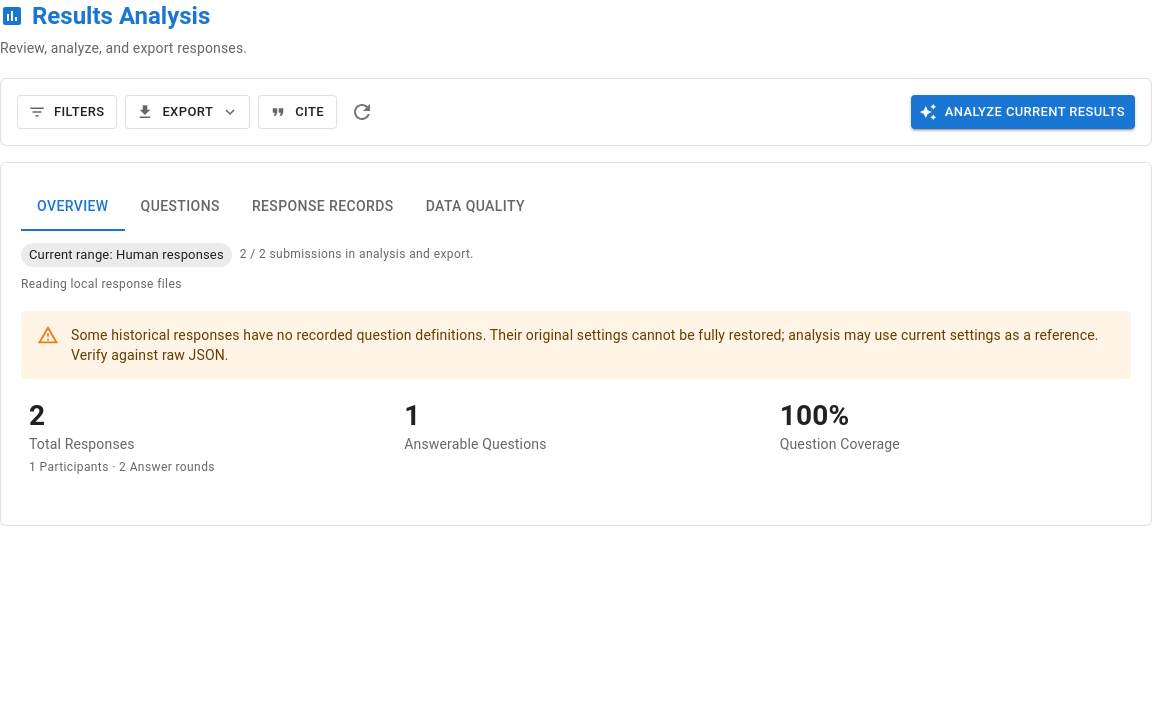
Test: filter preference does not save the survey and submission details are available
Expected: the text "2 / 2 submissions in analysis and export." is shown, 240,245 -> 474,265
Click the button "Filters" at [67, 112], box 17,95 -> 117,129
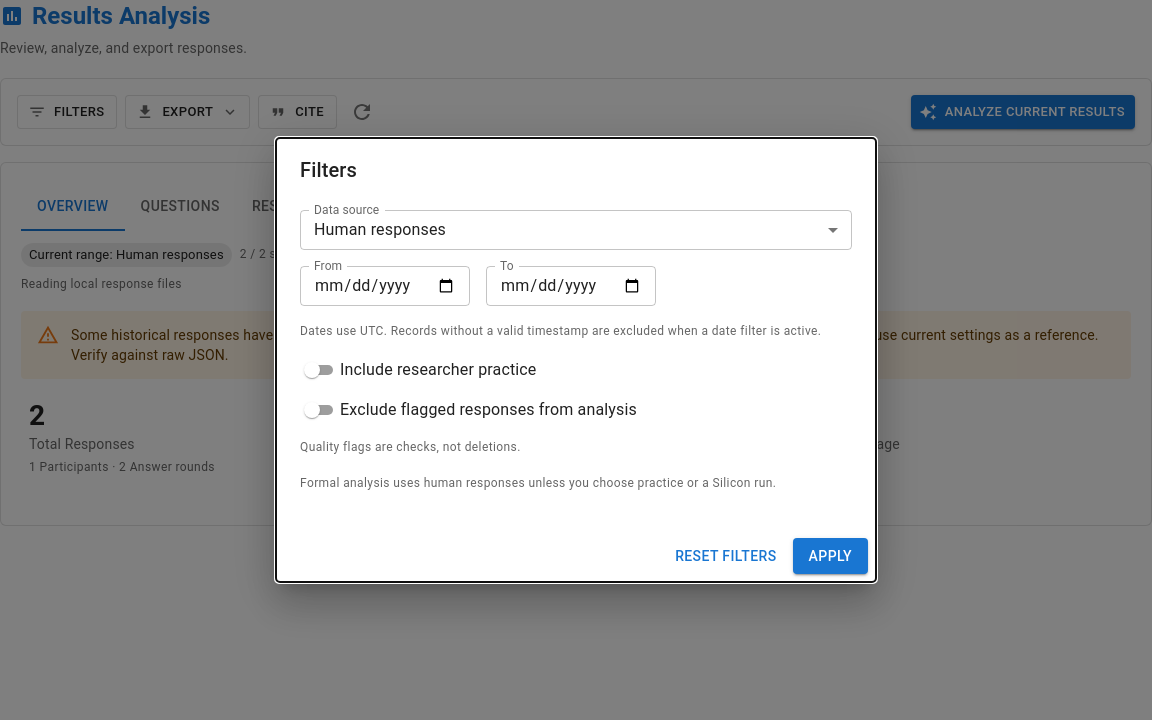
Click the switch labelled "Include researcher practice" at [420, 369], box 304,360 -> 536,379
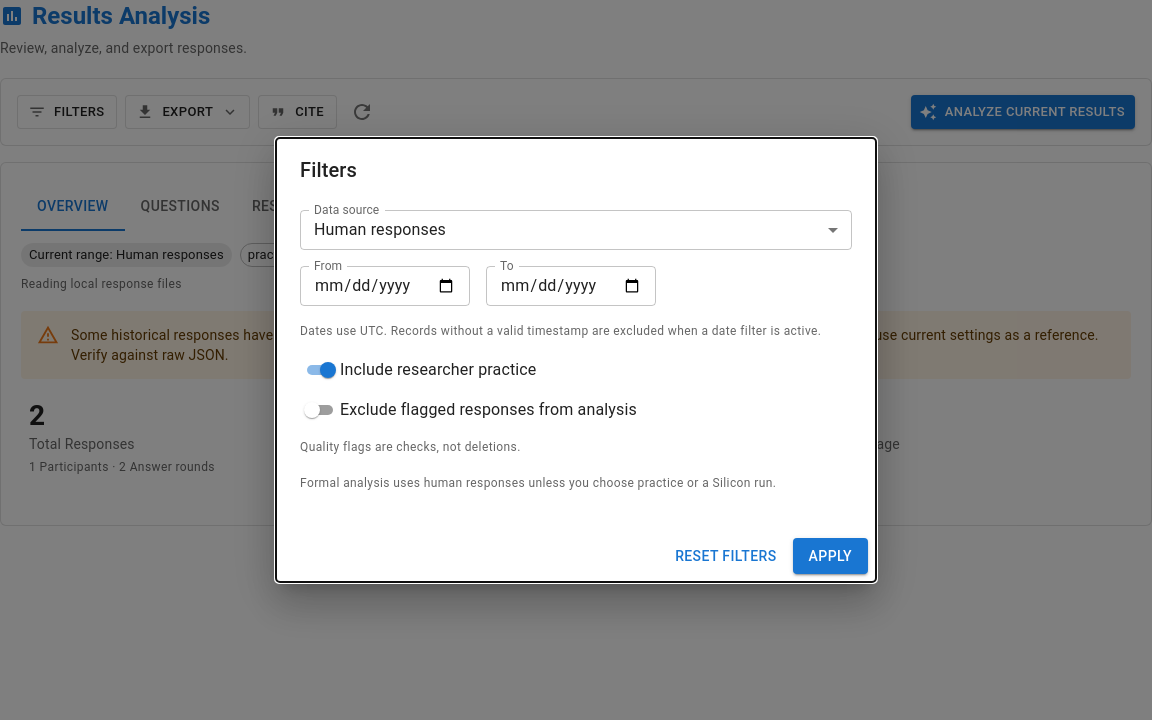
Click the button "Apply" at [830, 556], box 793,538 -> 868,574
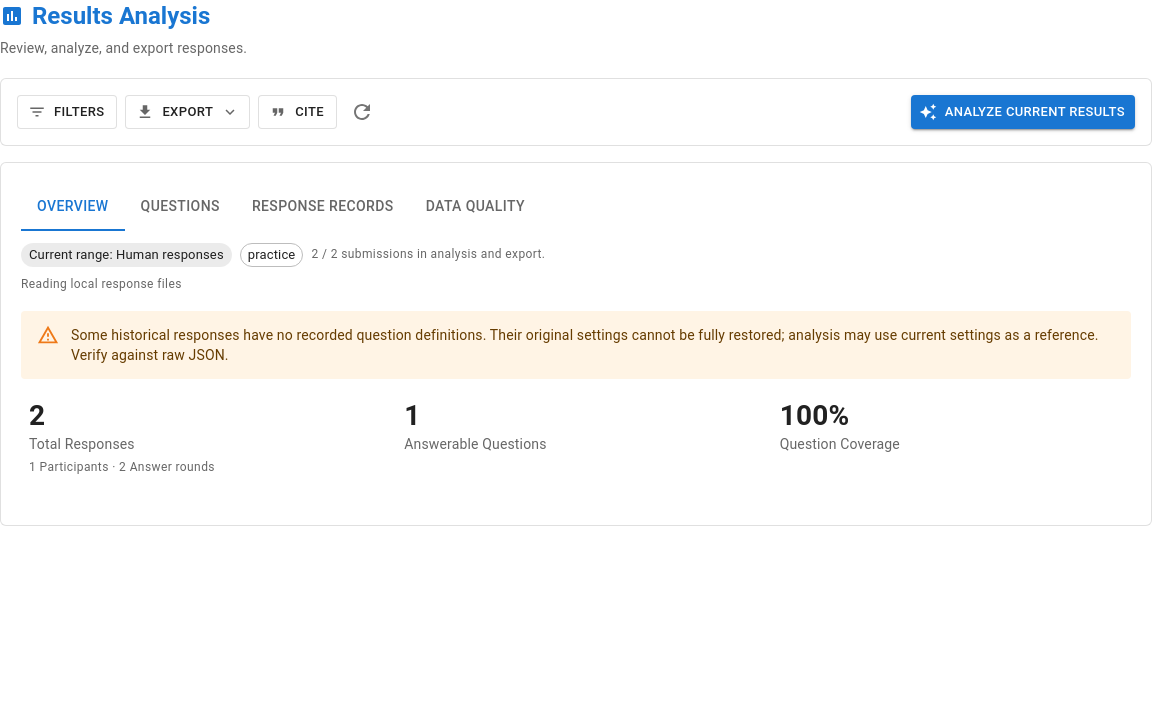
Click the tab "Response records" at [323, 207], box 236,183 -> 410,231
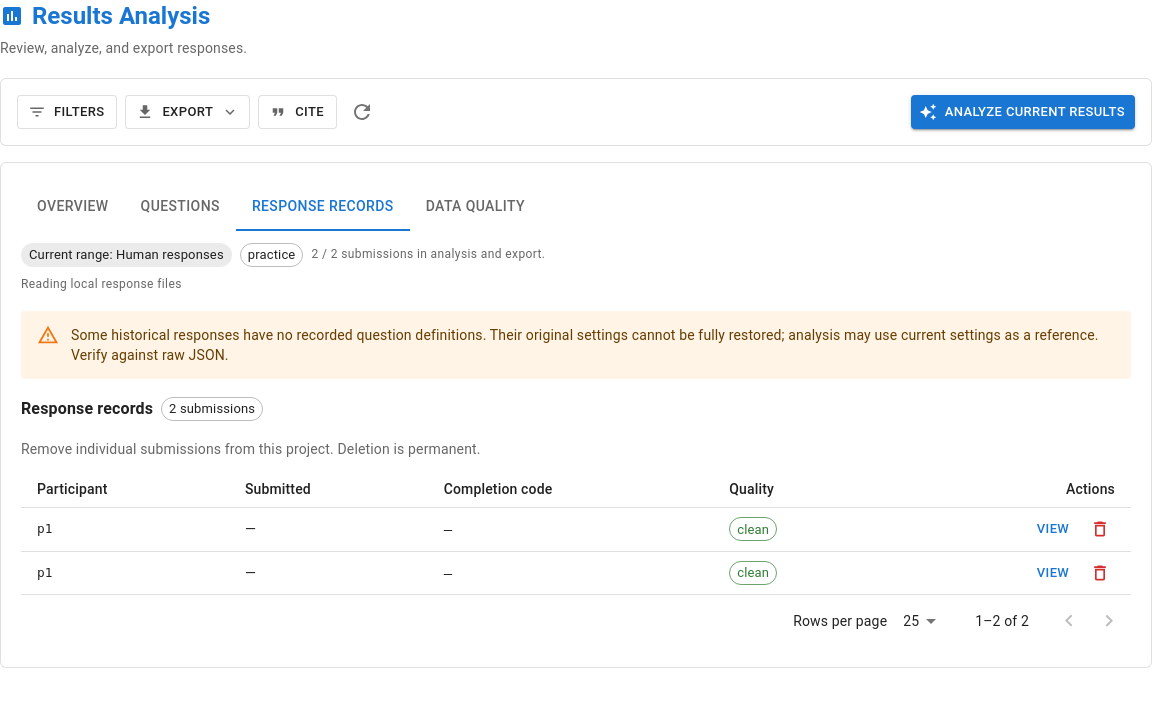
Click the 1st button "View" at [1053, 529], box 1021,514 -> 1085,545
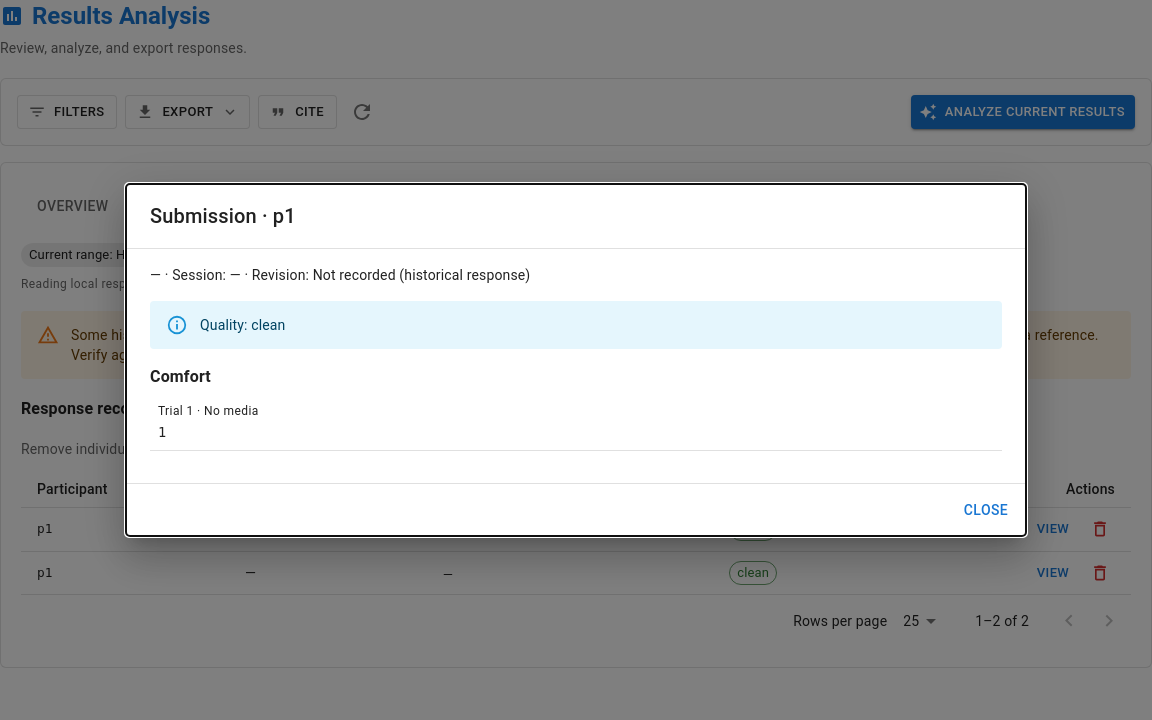
Expected: the dialog is shown, 126,184 -> 1026,536
Expected: the text "Not recorded (historical response)" is shown, 313,267 -> 530,283
Click the button "Close" at [986, 510], box 954,492 -> 1018,528
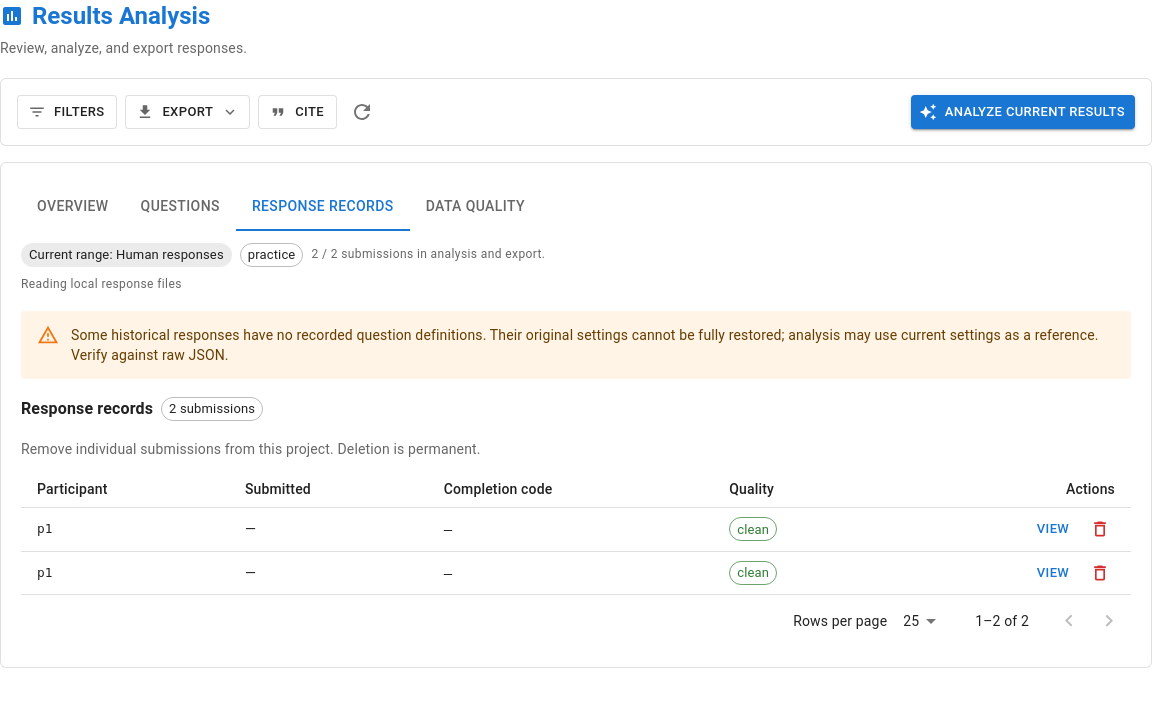
Expected: the dialog is gone
